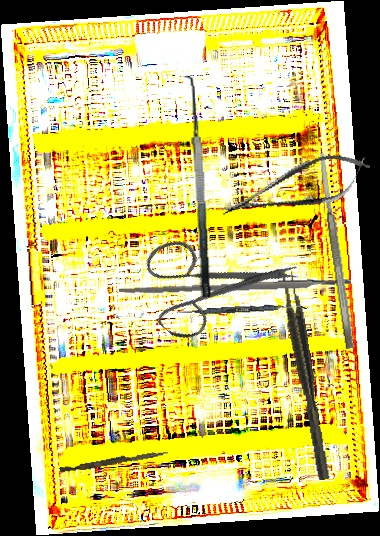Iris Scissors: (119, 187, 304, 373)
Micro Scissor: (214, 142, 377, 233)
Pusher: (59, 446, 169, 476)
Scalpel Handle: (118, 277, 352, 297)
Spatula Surgical: (174, 75, 213, 298), (316, 151, 356, 350), (176, 301, 309, 318)
Tissue Forceps: (279, 270, 330, 482)
